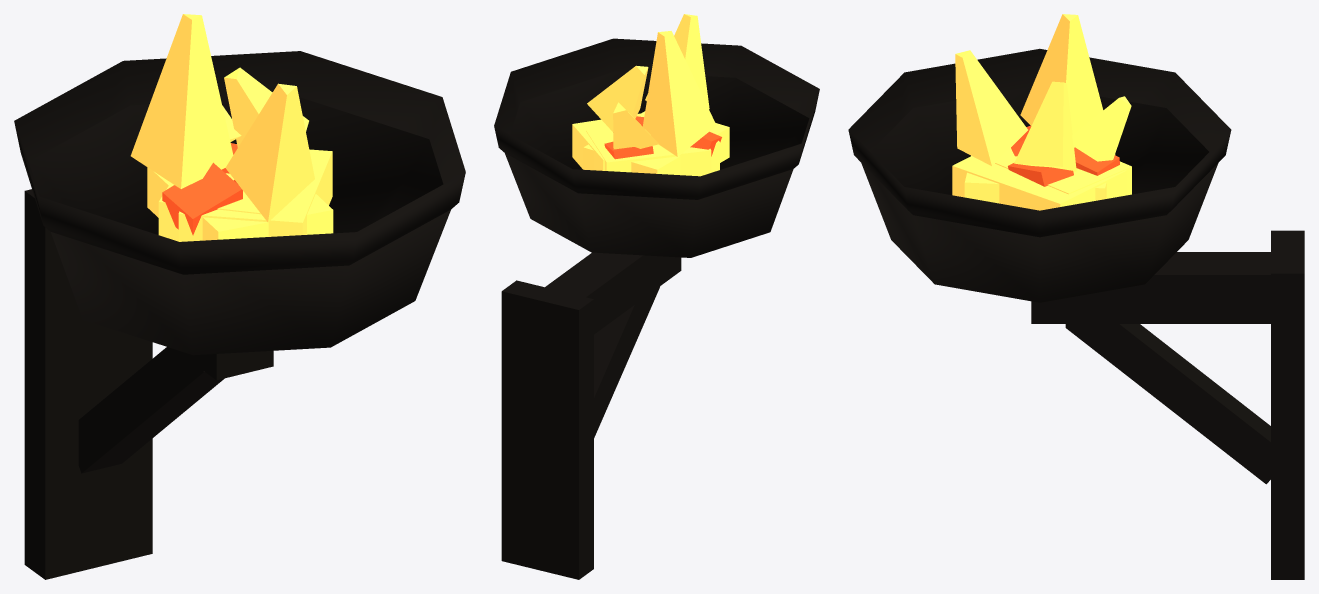
Rendered from cresset.glb.
3 renders of one model, left to right at view 1: azimuth 30°, elevation 25°; view 2: azimuth 150°, elevation 25°; view 3: azimuth 270°, elevation 25°, orthographic. The views are drawn at different scales.
Parts seen in each view (by area): view 1: cresset; view 2: cresset; view 3: cresset.
Part boxes in pixels (x1,y1,x2,y2): cresset: (14,14,465,579); cresset: (494,14,819,579); cresset: (848,14,1304,579).
Bounding box in the file's own units: 0.34 × 0.52 × 0.405.
